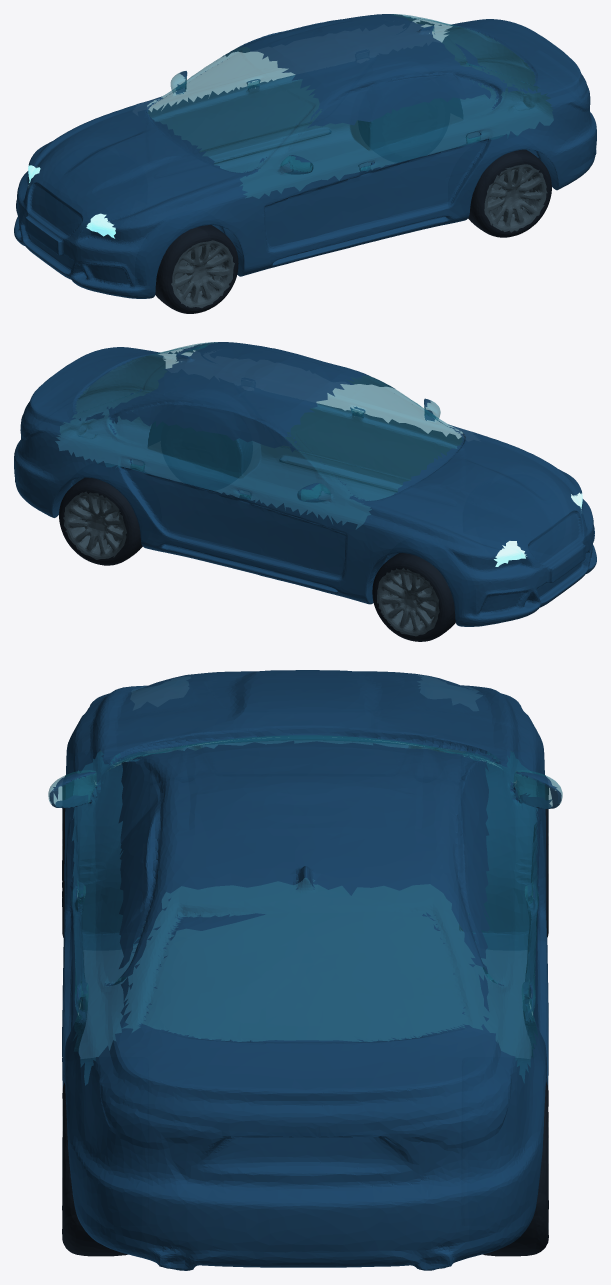
File: meshy_sedan_holographic_v01.glb
3 views of the same model, one above another, from view 1: azimuth 30°, elevation 25°; view 2: azimuth 150°, elevation 25°; view 3: azimuth 270°, elevation 25° (orthographic). The views are drawn at different scales.
Parts seen in each view (by area): view 1: Meshy_Sedan_Approved_Geometry; view 2: Meshy_Sedan_Approved_Geometry; view 3: Meshy_Sedan_Approved_Geometry.
Boxes of the visible parts, box(x1,y1,x2,y2) form: Meshy_Sedan_Approved_Geometry: box(14, 14, 596, 313); Meshy_Sedan_Approved_Geometry: box(14, 342, 596, 641); Meshy_Sedan_Approved_Geometry: box(48, 670, 562, 1270).
Size of the model in its own units: 1.9 by 0.6099 by 0.8026.
